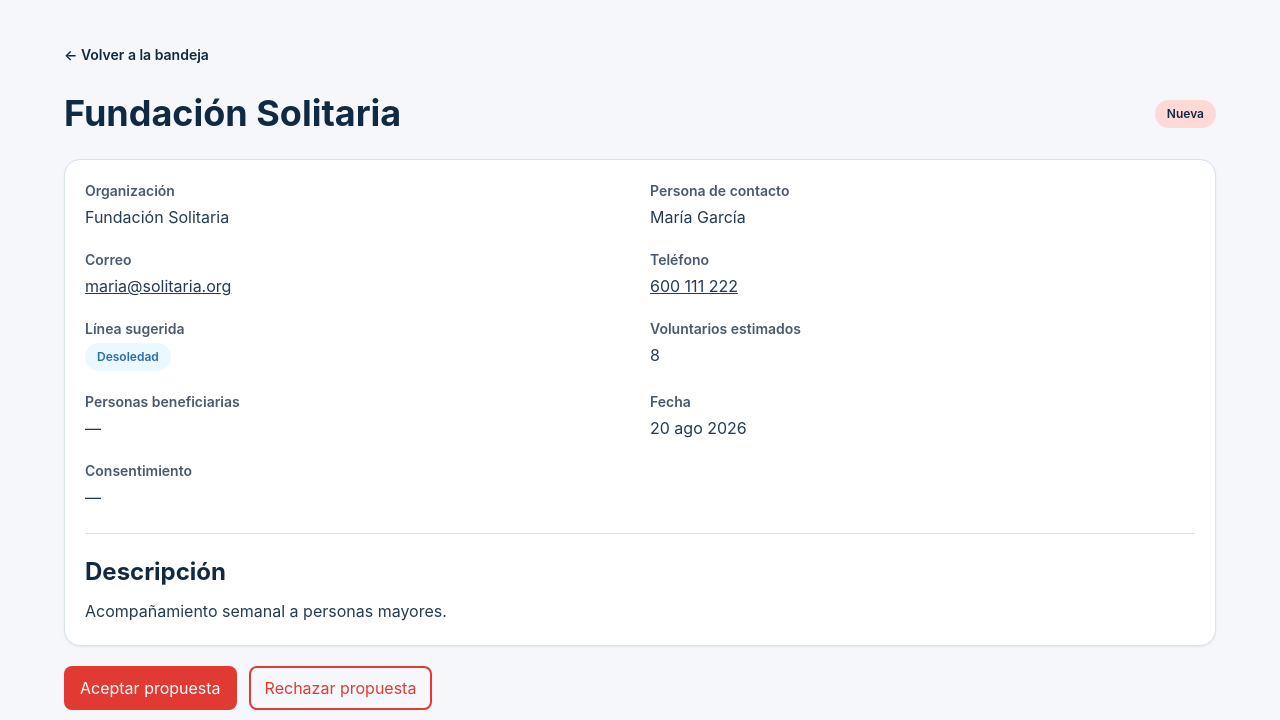
Test: ProposalDetailPage › gestiona 409 conflicto al rechazar
Expected: the heading "Fundación Solitaria" is shown, x1=64 y1=92 x2=401 y2=135
Click the button "Rechazar propuesta" at [340, 688], box x1=249 y1=666 x2=432 y2=710
(page scrolled)
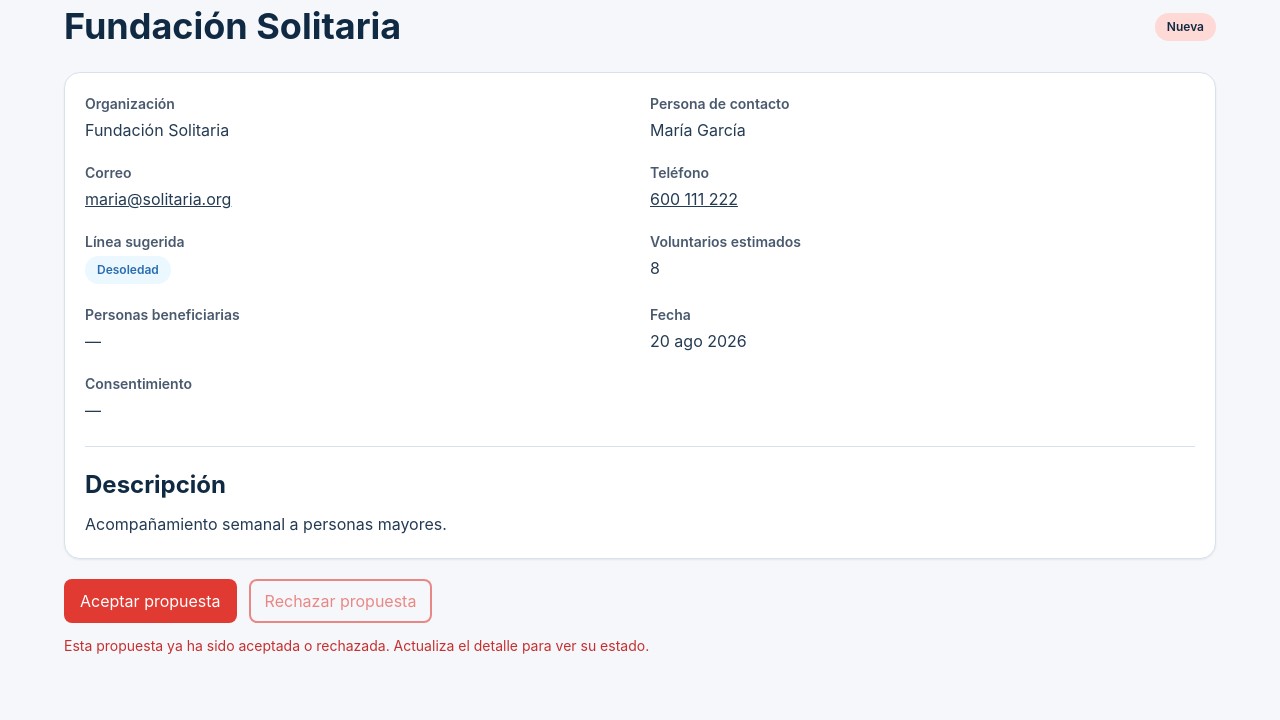
Now the text "ya ha sido aceptada o rechazada" is shown, box x1=64 y1=637 x2=649 y2=654
